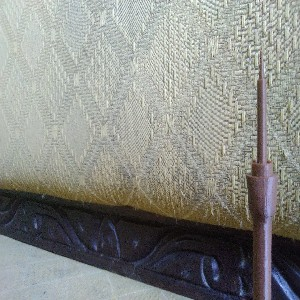solder: (245, 47, 278, 300)
